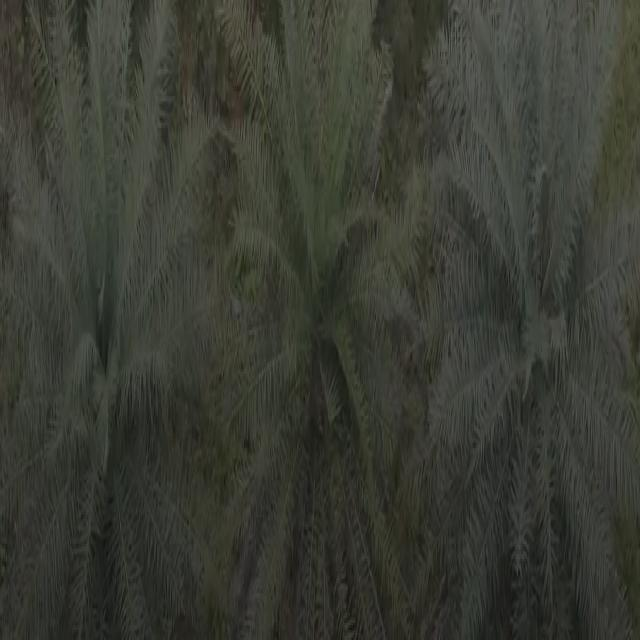notMangoTree: (416, 0, 640, 640), (0, 0, 223, 640), (197, 0, 409, 640)
